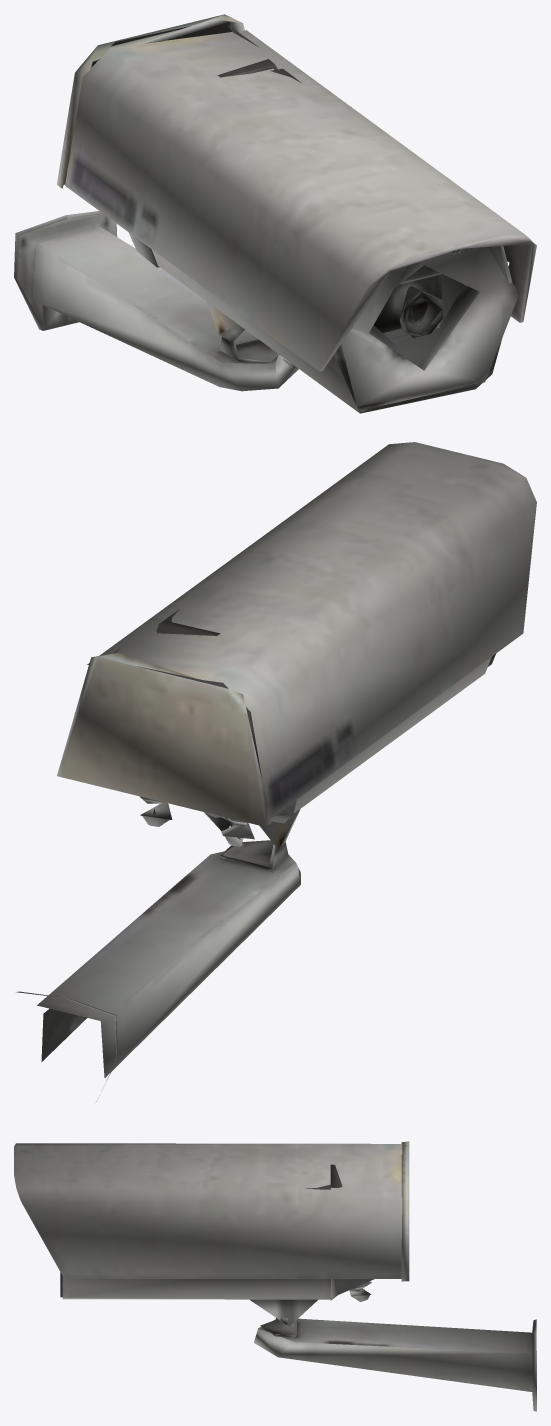
Rendered from cctv.glb.
3 renders of one model, top to bottom at view 1: azimuth 30°, elevation 25°; view 2: azimuth 150°, elevation 25°; view 3: azimuth 270°, elevation 25°, orthographic. The views are drawn at different scales.
Visible parts, largest first — view 1: cctv; view 2: cctv; view 3: cctv.
Part boxes in pixels (left/top/right/bottom): cctv: left=14, top=14, right=536, bottom=413; cctv: left=16, top=442, right=536, bottom=1101; cctv: left=14, top=1141, right=536, bottom=1411.
Size of the model in its own units: 0.1696 by 0.2854 by 0.5536.
1 material, 1 textured.
